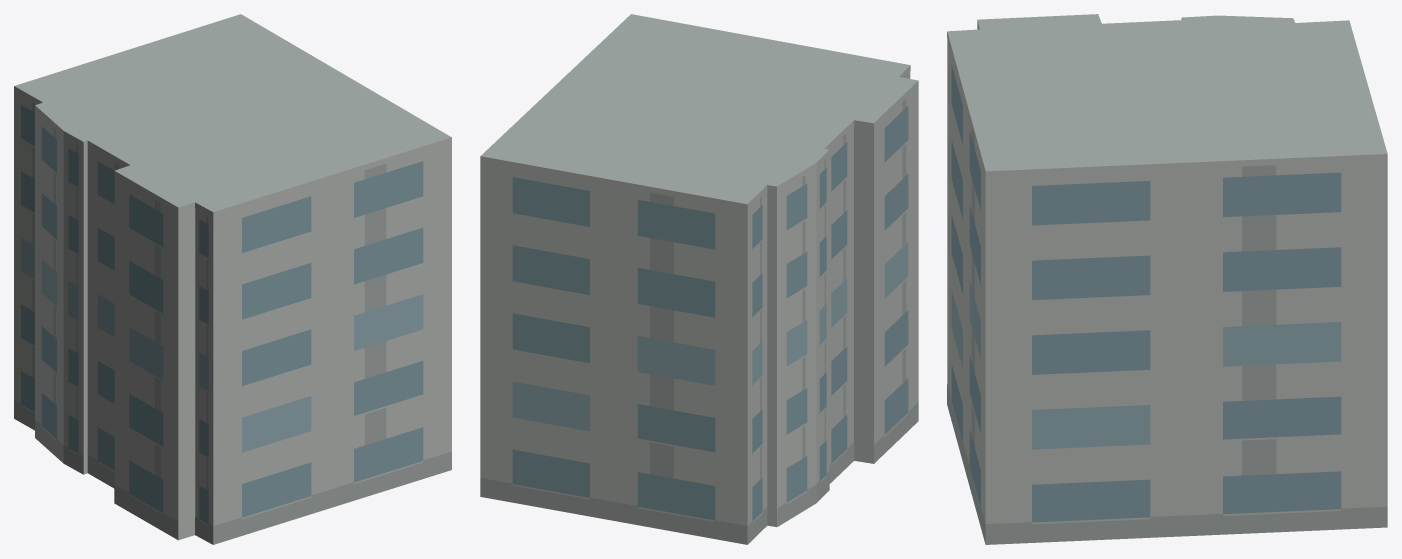
The model's file is survey-upis-32888329.glb.
The picture shows the model from 3 angles, left to right: view 1: azimuth 30°, elevation 25°; view 2: azimuth 150°, elevation 25°; view 3: azimuth 270°, elevation 25°; orthographic projection. The views are drawn at different scales.
Parts seen in each view (by area): view 1: survey-upis-32888329.tmp; view 2: survey-upis-32888329.tmp; view 3: survey-upis-32888329.tmp.
Part boxes in pixels (x1=…): survey-upis-32888329.tmp: x1=14, y1=14, x2=451, y2=544; survey-upis-32888329.tmp: x1=480, y1=14, x2=918, y2=544; survey-upis-32888329.tmp: x1=947, y1=14, x2=1387, y2=544.
Bounding box in the file's own units: 12.93 × 14.3 × 15.3.
